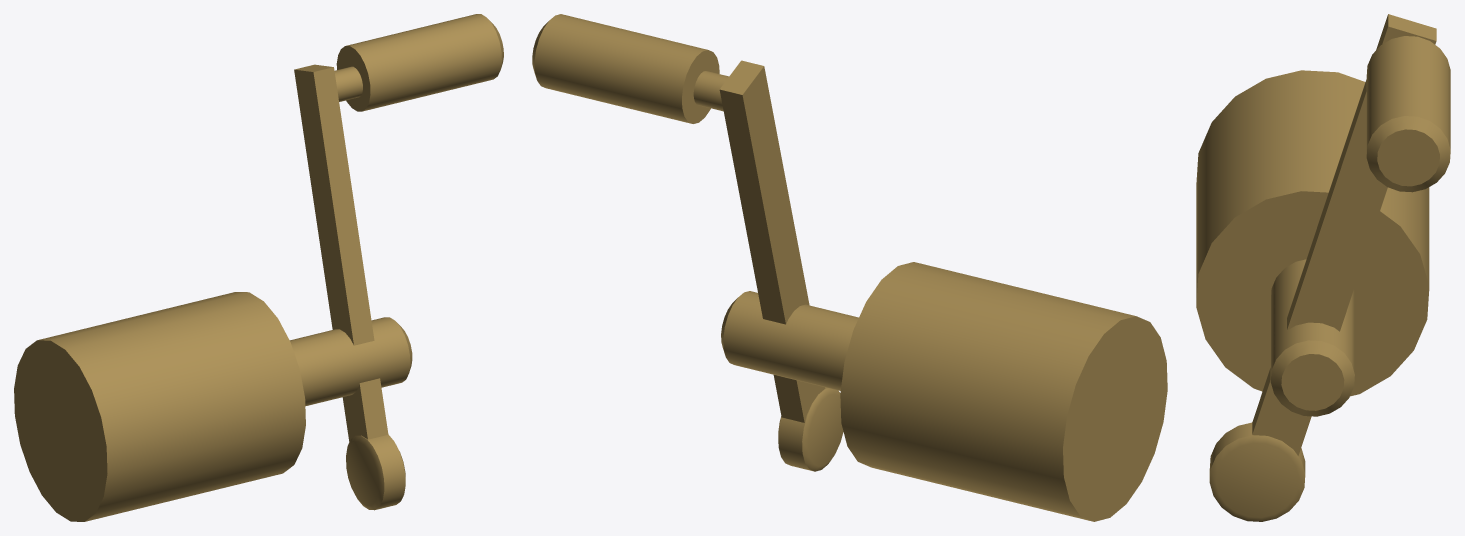
The model's file is Reel_For testing.fbx.
3 views of the same model, side by side, from view 1: azimuth 30°, elevation 25°; view 2: azimuth 150°, elevation 25°; view 3: azimuth 270°, elevation 25° (orthographic). The views are drawn at different scales.
Visible parts, largest first — view 1: Reel; view 2: Reel; view 3: Reel.
Boxes of the visible parts, bbox=[...] form: Reel: bbox=[14, 14, 503, 521]; Reel: bbox=[532, 14, 1167, 521]; Reel: bbox=[1196, 14, 1450, 521].
Size of the model in its own units: 8.04 by 6.61 by 3.03.
